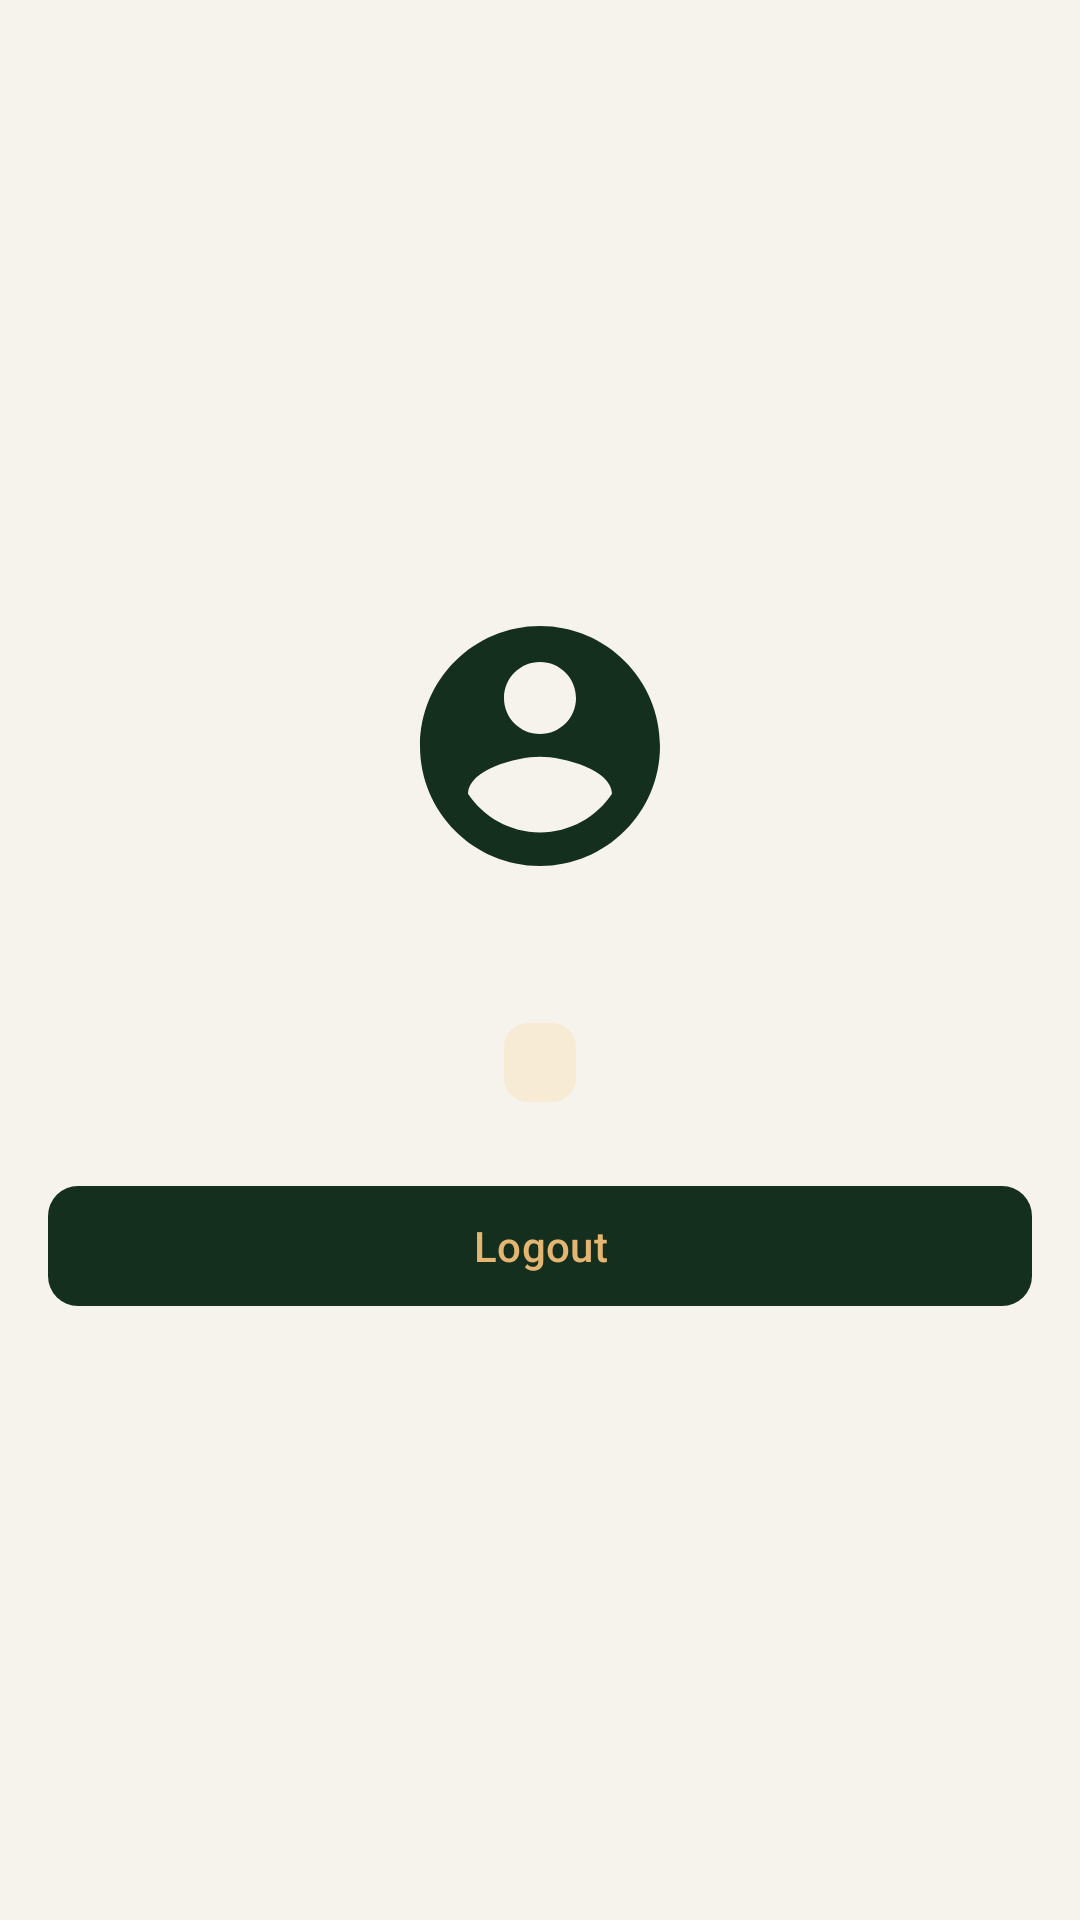

Icons on this 1080 × 1920 Android screen, each with its box as (x1, y1, x2, y2):
Ikon profil: (420, 626, 660, 866)
